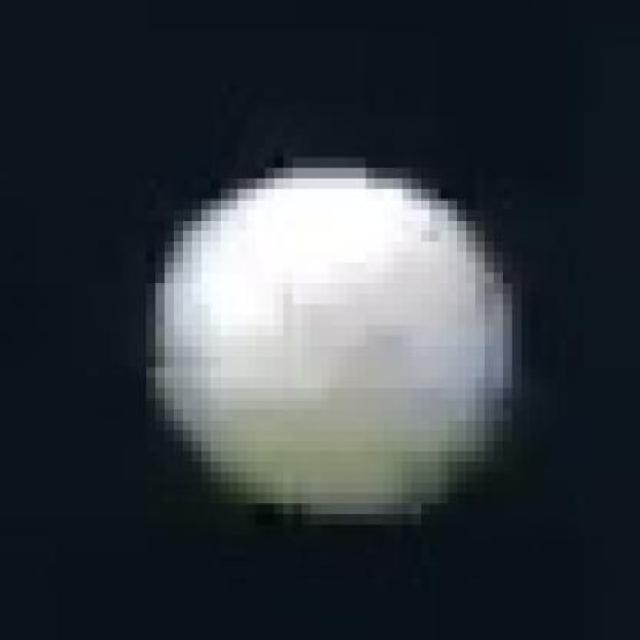Cricket ball: (152, 163, 517, 520)
